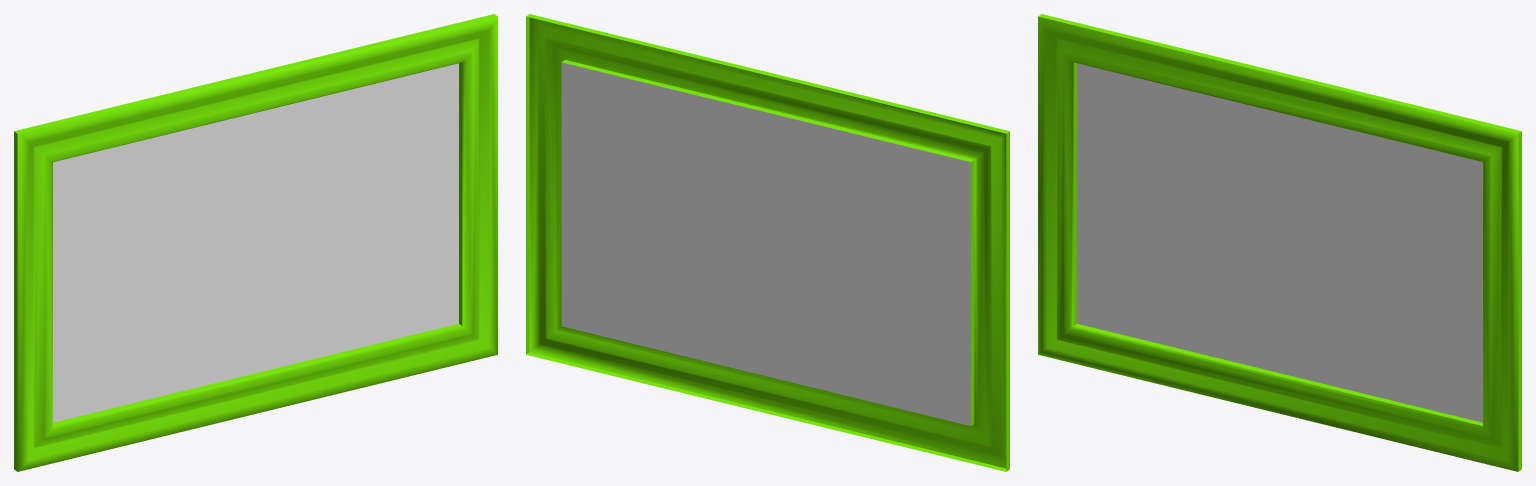
Rendered from painting_1_mesh.fbx.
The picture shows the model from 3 angles, left to right: view 1: azimuth 30°, elevation 25°; view 2: azimuth 150°, elevation 25°; view 3: azimuth 330°, elevation 25°; orthographic projection.
Visible parts, largest first — view 1: painting; view 2: painting; view 3: painting.
Boxes of the visible parts, left/top/right/bottom form: painting: left=14, top=14, right=497, bottom=471; painting: left=526, top=14, right=1009, bottom=471; painting: left=1038, top=14, right=1521, bottom=471.
Size of the model in its own units: 1.17 by 0.7888 by 0.02.
